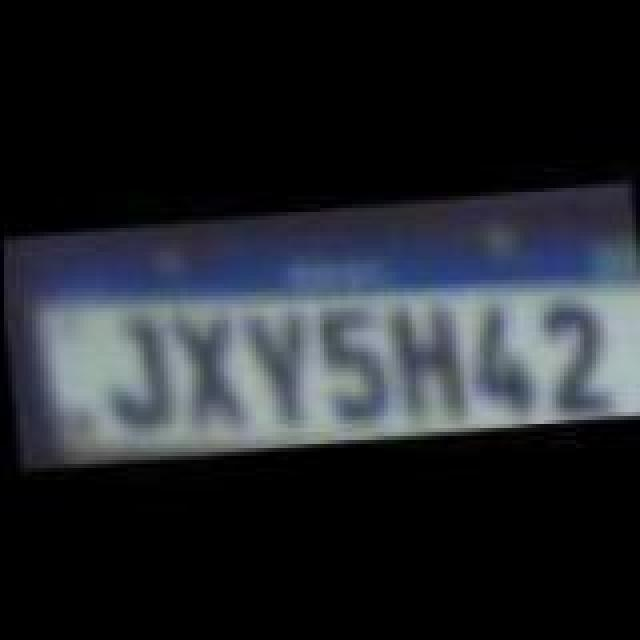2: (528, 290, 616, 418)
4: (462, 292, 538, 416)
5: (306, 294, 390, 418)
H: (386, 292, 470, 416)
J: (88, 308, 176, 432)
X: (168, 304, 248, 432)
Y: (236, 304, 316, 424)
